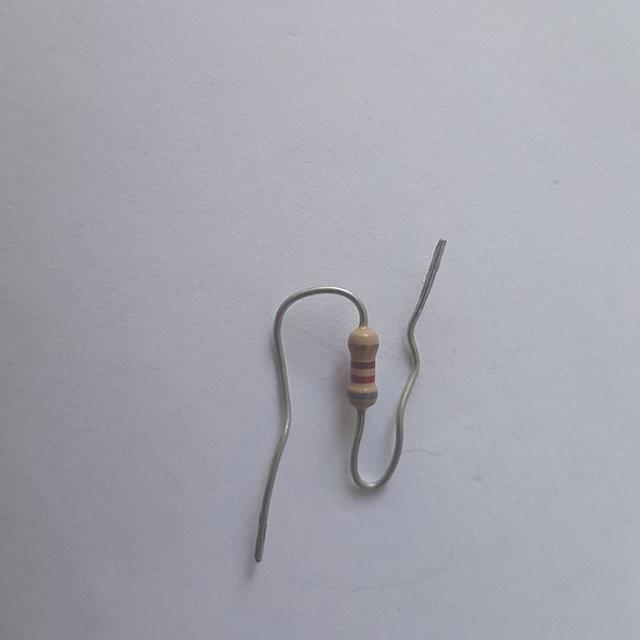brown: (353, 361, 374, 369)
gold: (349, 344, 378, 350)
grey: (349, 392, 376, 399)
red: (352, 376, 374, 383)
resistor: (339, 321, 387, 416)
